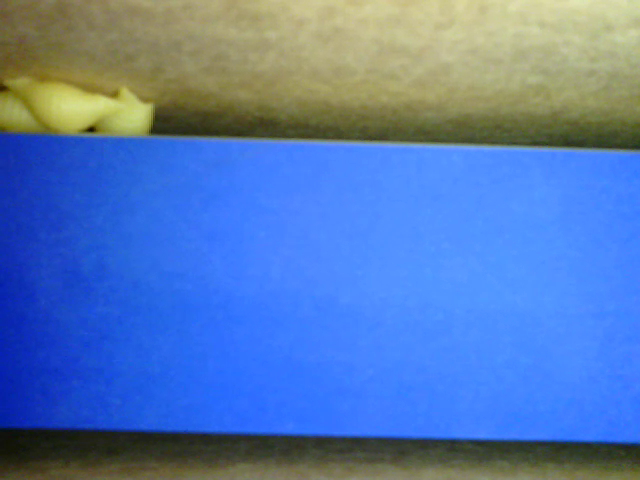shell: (1, 74, 130, 139), (94, 85, 154, 134), (1, 85, 54, 138)
